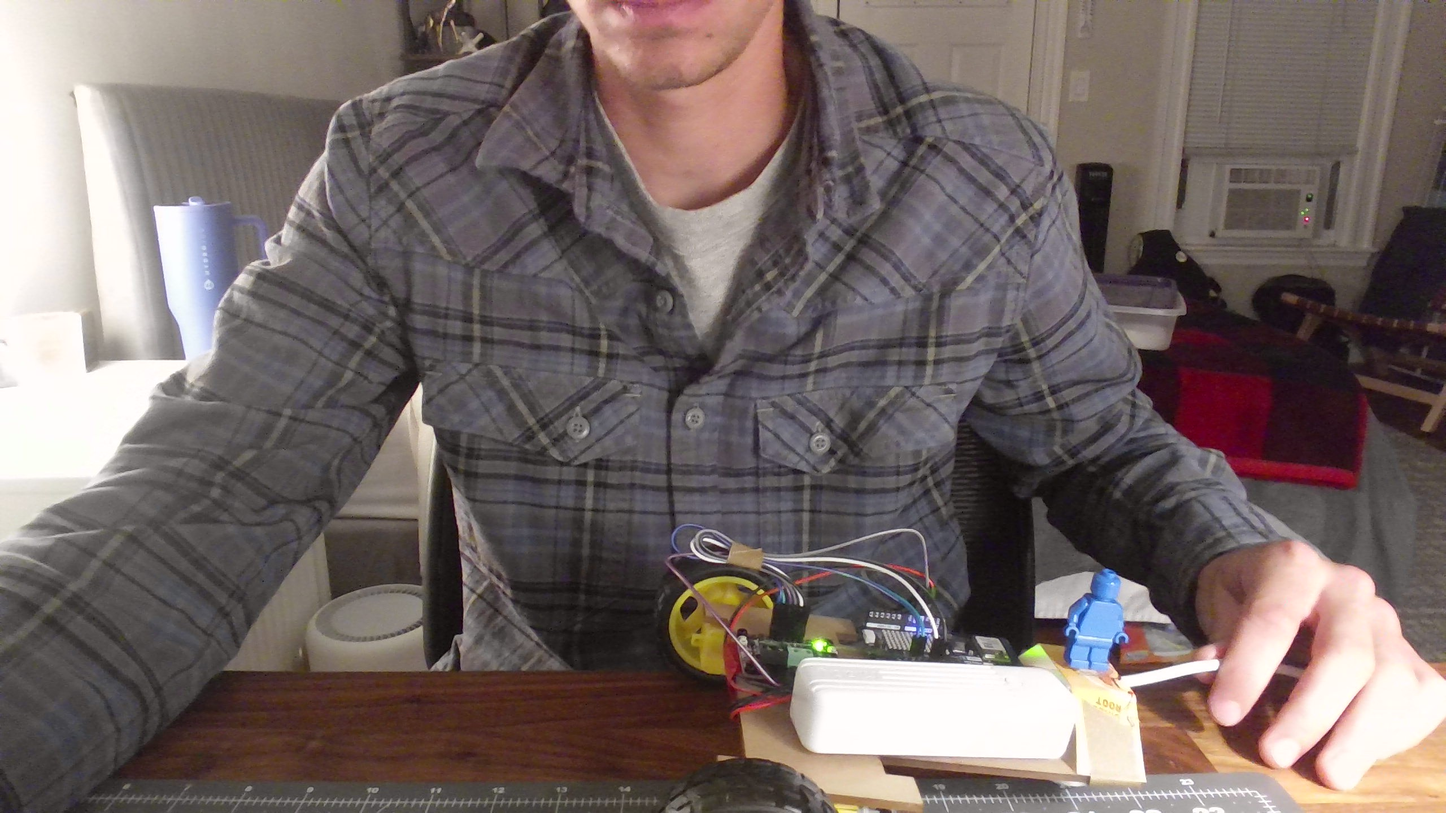Training-dataset-2: (1043, 557, 1124, 678)
